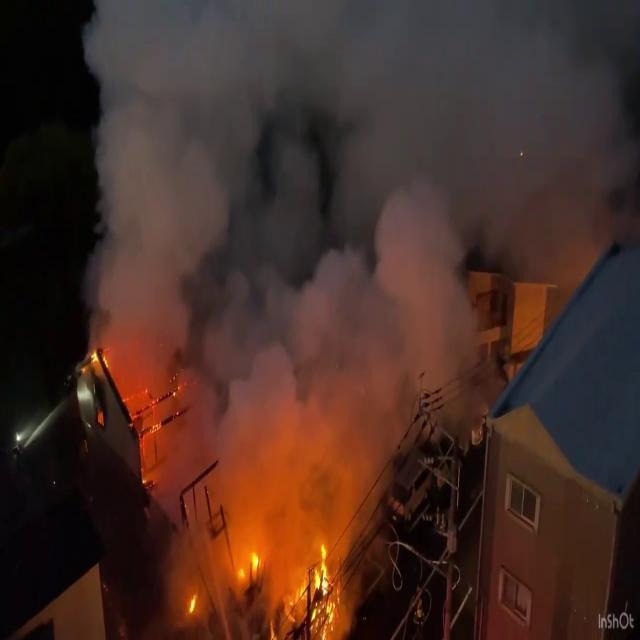Smoke: (75, 1, 639, 546)
